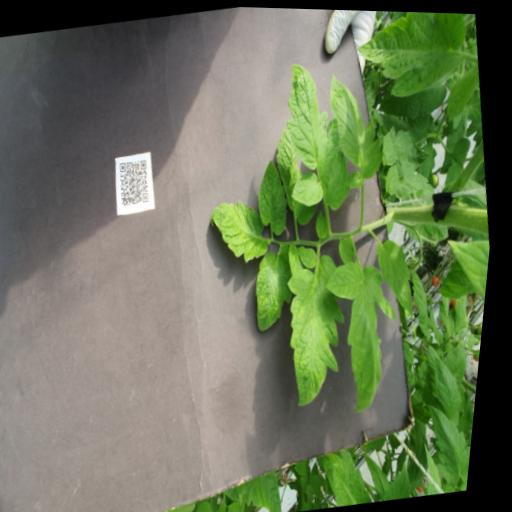Healthy: (317, 250, 421, 416), (269, 50, 366, 215), (275, 240, 369, 410), (345, 8, 476, 102), (320, 65, 398, 191), (205, 189, 280, 270), (247, 241, 307, 334), (428, 393, 483, 486), (376, 233, 427, 321), (324, 441, 386, 507), (251, 154, 299, 236), (435, 352, 475, 427), (388, 118, 437, 170), (365, 446, 403, 500), (386, 456, 423, 499), (383, 159, 406, 194), (379, 128, 400, 164)
